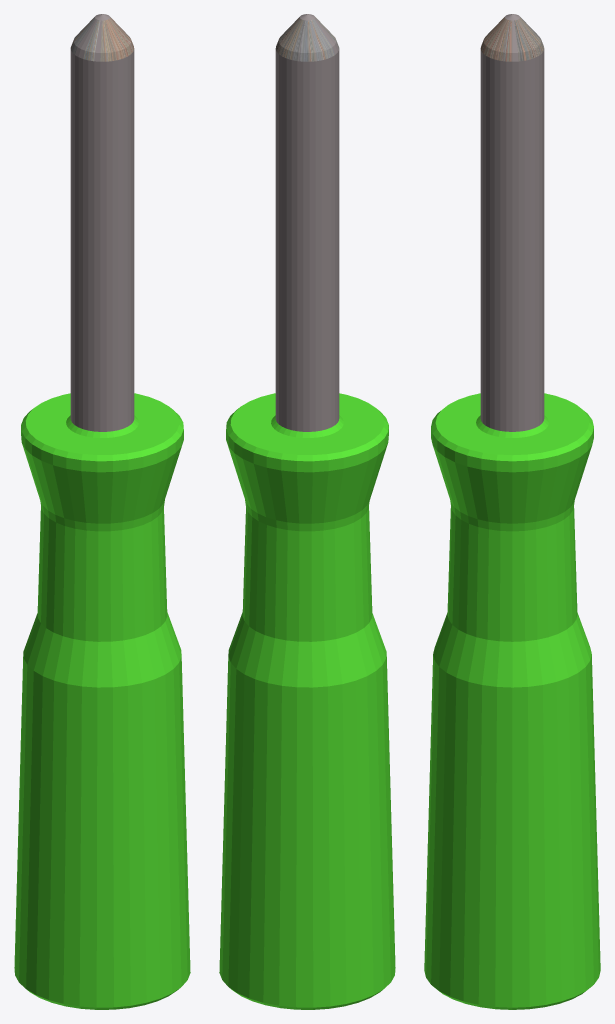
File: screwdriver.fbx
The picture shows the model from 3 angles, left to right: view 1: azimuth 30°, elevation 25°; view 2: azimuth 150°, elevation 25°; view 3: azimuth 270°, elevation 25°; orthographic projection.
Parts seen in each view (by area): view 1: Cylinder; view 2: Cylinder; view 3: Cylinder.
Part boxes in pixels (x1,y1,x2,y2): Cylinder: (14,14,190,1009); Cylinder: (219,14,395,1009); Cylinder: (424,14,600,1009).
Size of the model in its own units: 2.5 by 15 by 2.5.
3 materials, 1 textured.
